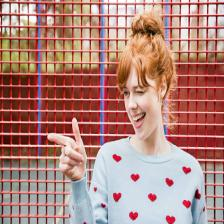five: (46, 116, 90, 182)
